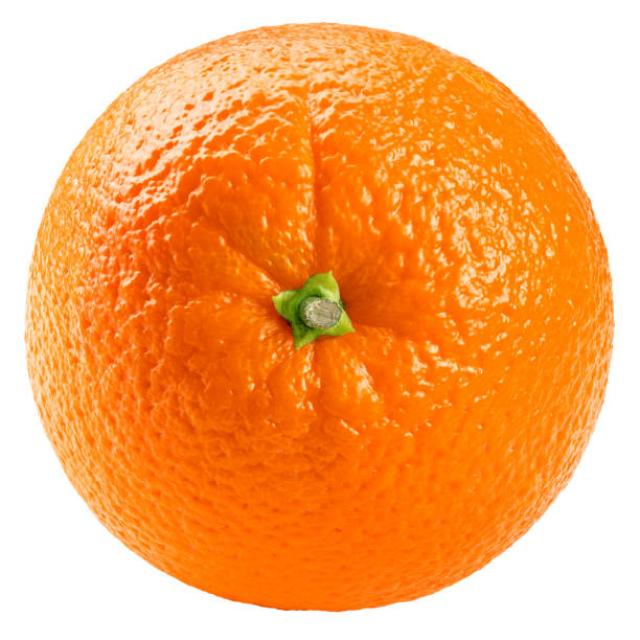Ripe: (17, 14, 617, 612)
